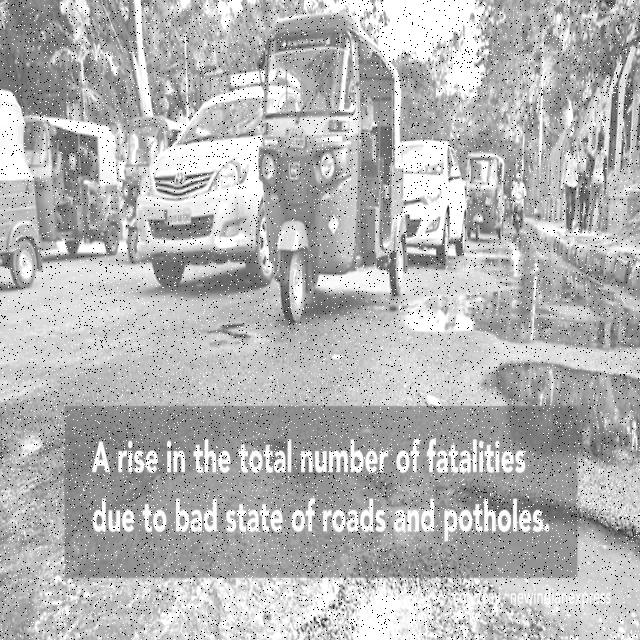pothole: (457, 492, 640, 640), (1, 431, 56, 468), (209, 321, 247, 350)
